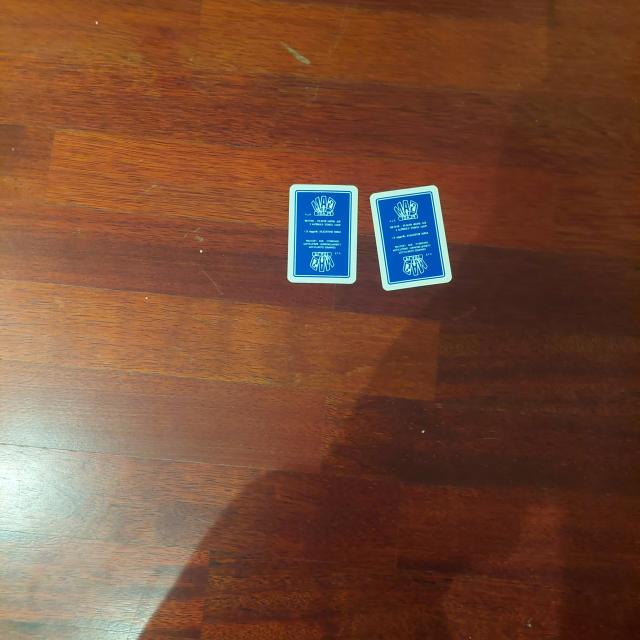card: (370, 183, 454, 292), (284, 184, 358, 286)
